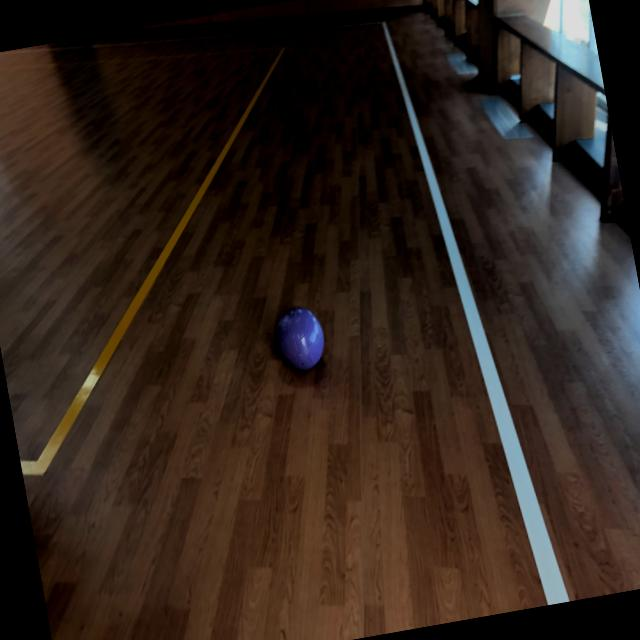purple_ball: (272, 304, 328, 372)
